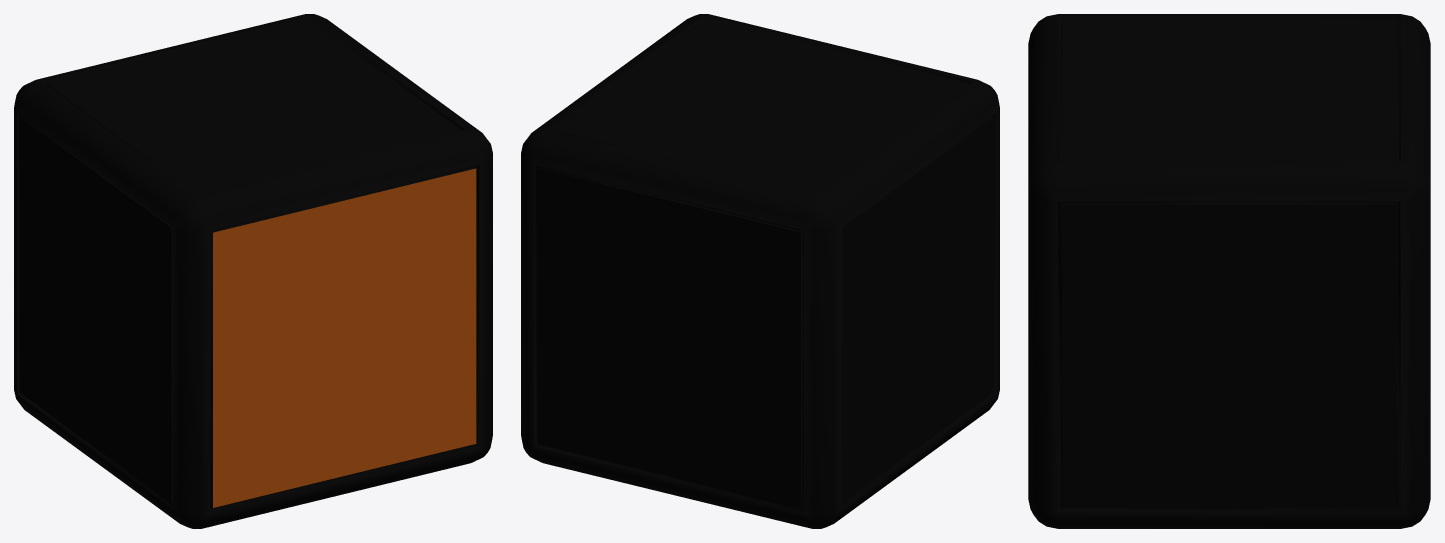
Rendered from oneCubeObjToOrg12.gltf.
The picture shows the model from 3 angles, left to right: view 1: azimuth 30°, elevation 25°; view 2: azimuth 150°, elevation 25°; view 3: azimuth 270°, elevation 25°; orthographic projection. The views are drawn at different scales.
Visible parts, largest first — view 1: Cube.011; view 2: Cube.011; view 3: Cube.011.
Boxes of the visible parts, left/top/right/bottom form: Cube.011: left=14, top=14, right=492, bottom=528; Cube.011: left=521, top=14, right=999, bottom=528; Cube.011: left=1028, top=14, right=1430, bottom=528.
Size of the model in its own units: 2 by 2 by 2.
